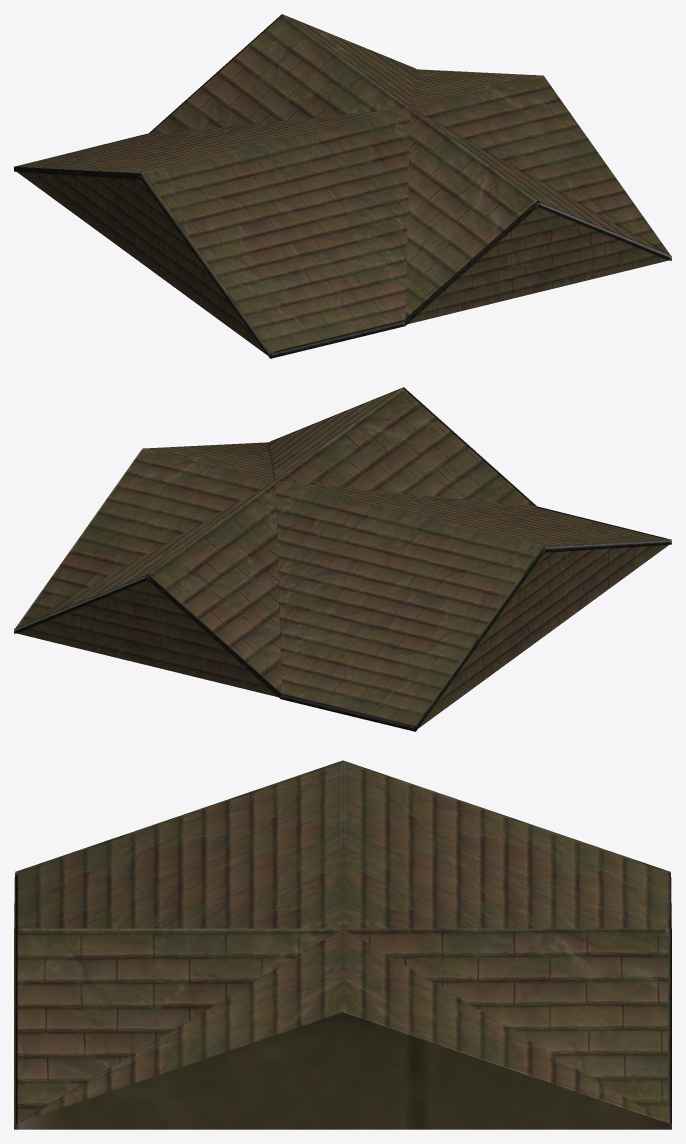
File: Roof.FBX
3 views of the same model, one above another, from view 1: azimuth 30°, elevation 25°; view 2: azimuth 150°, elevation 25°; view 3: azimuth 270°, elevation 25° (orthographic). The views are drawn at different scales.
Visible parts, largest first — view 1: Roof; view 2: Roof; view 3: Roof.
Part boxes in pixels (x1,y1,x2,y2): Roof: [14, 14, 671, 358]; Roof: [14, 387, 671, 731]; Roof: [14, 760, 671, 1129].
Size of the model in its own units: 844 by 184 by 933.
